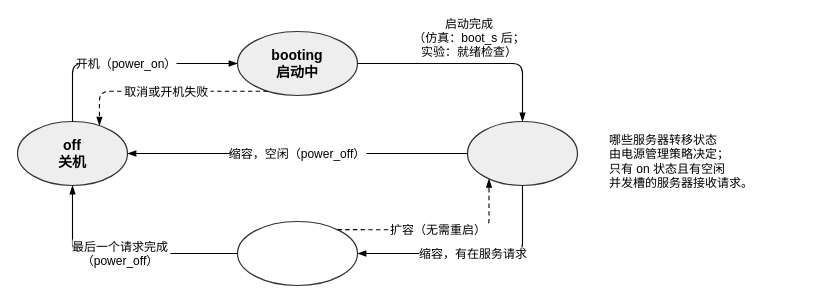
This 825x303 diagram has some shape labels left out. Each missing label, with the centre of its shape:
"draining 排空中" goes at [297,253].
"on 在线" goes at [522,153].
